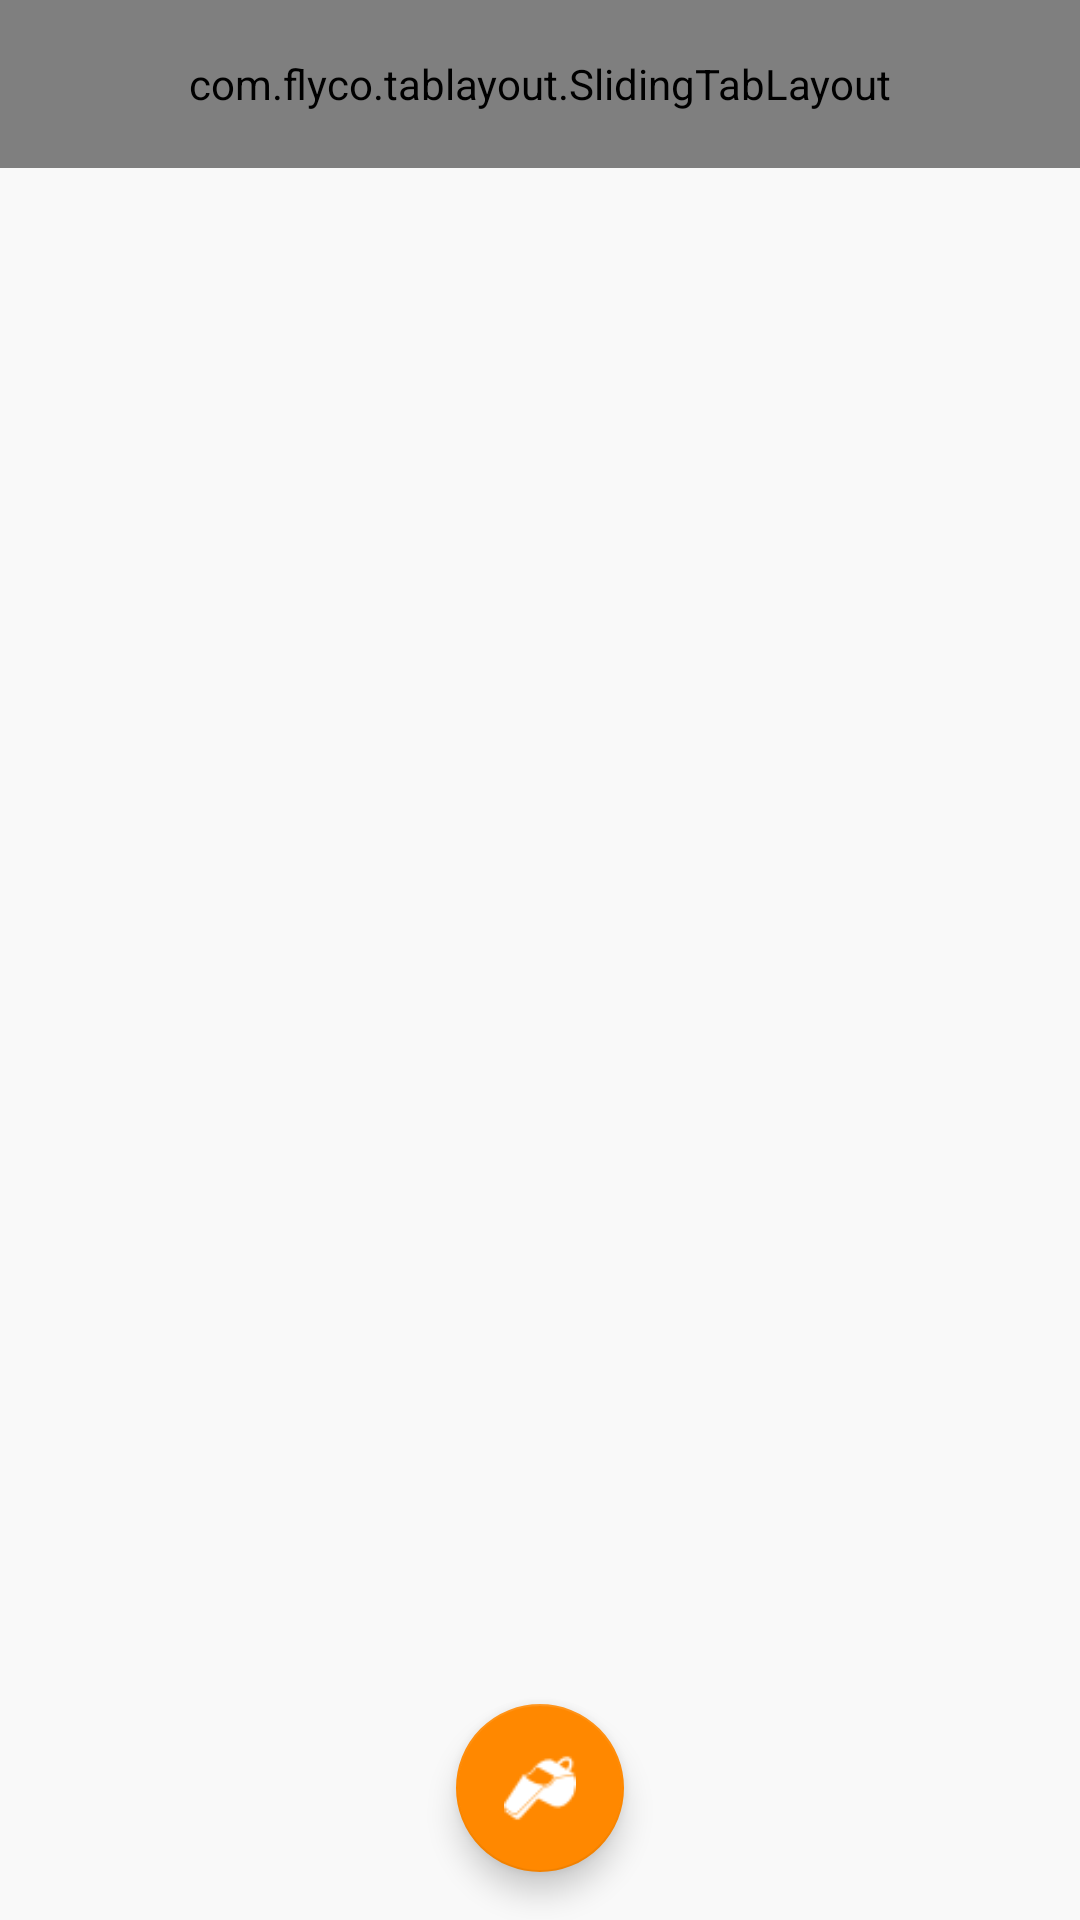

Where icons sit on this 1080x1920 app screen, as [x1, y1, x2, y2]:
whistle: [456, 1704, 624, 1872]
